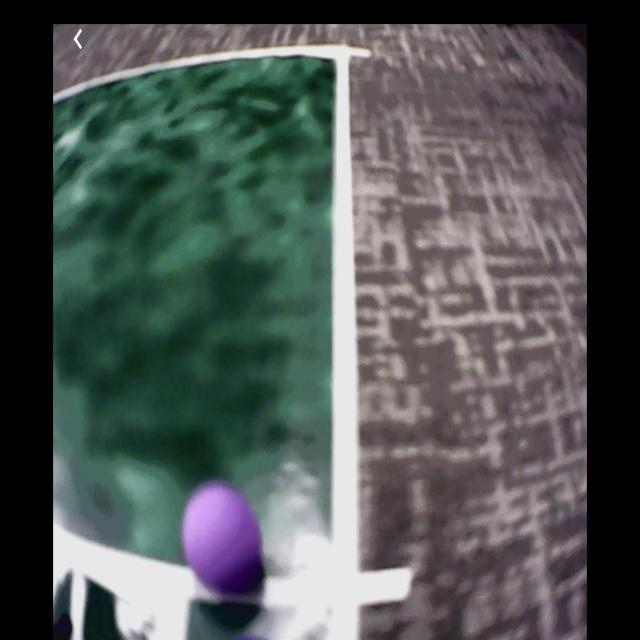ball: (182, 483, 260, 590)
